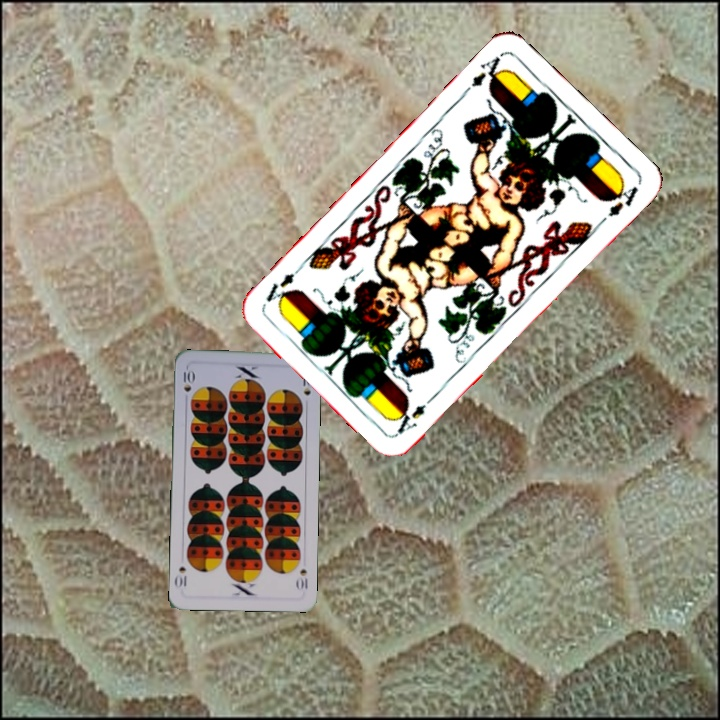EA: (459, 51, 510, 98), (392, 400, 429, 437)
S10: (179, 364, 195, 405), (293, 565, 310, 592)
